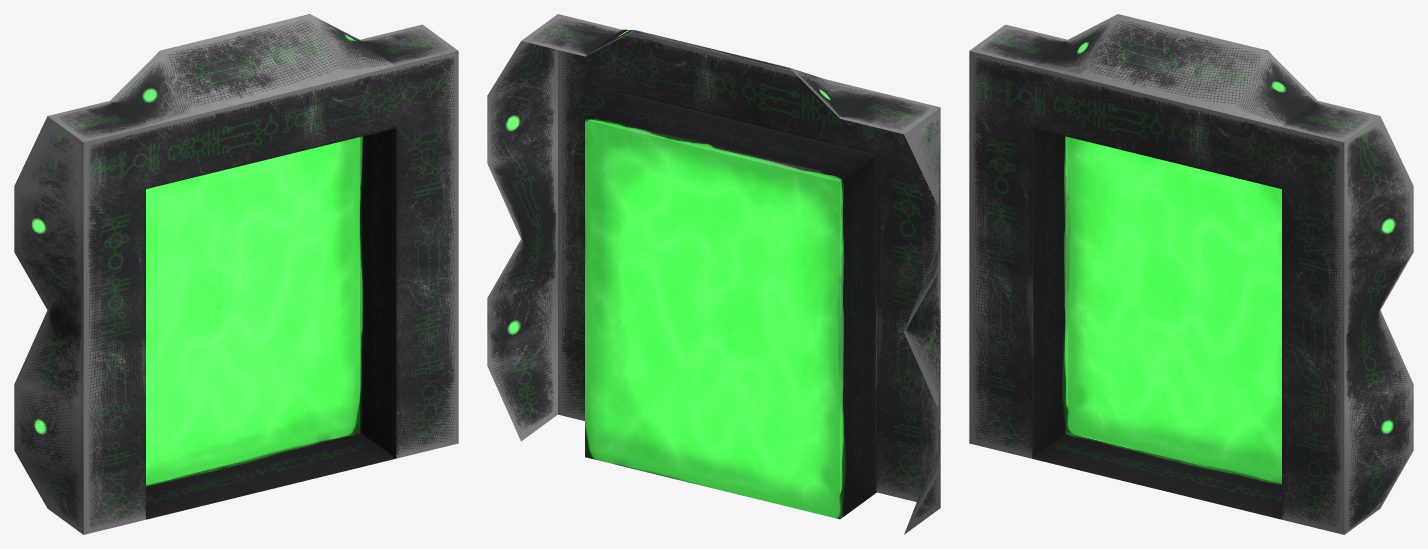
The picture shows the model from 3 angles, left to right: view 1: azimuth 30°, elevation 25°; view 2: azimuth 150°, elevation 25°; view 3: azimuth 330°, elevation 25°; orthographic projection. The views are drawn at different scales.
Visible parts, largest first — view 1: portal_blocking; view 2: portal_blocking; view 3: portal_blocking.
Boxes of the visible parts, x1,y1,x2,y2 form: portal_blocking: (14,14,458,534); portal_blocking: (487,14,940,534); portal_blocking: (969,14,1413,534).
Size of the model in its own units: 706 by 658 by 100.
1 material, 1 textured.
